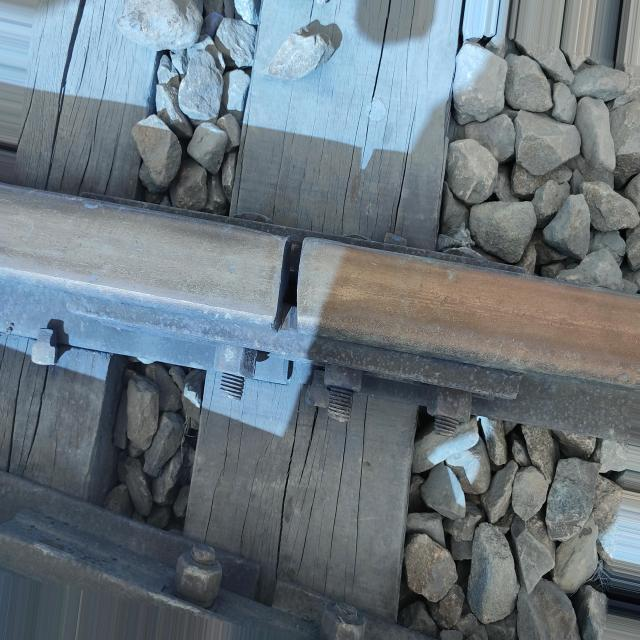Defective Joint: (0, 187, 640, 441)
Good Fasteners: (31, 329, 56, 365)
